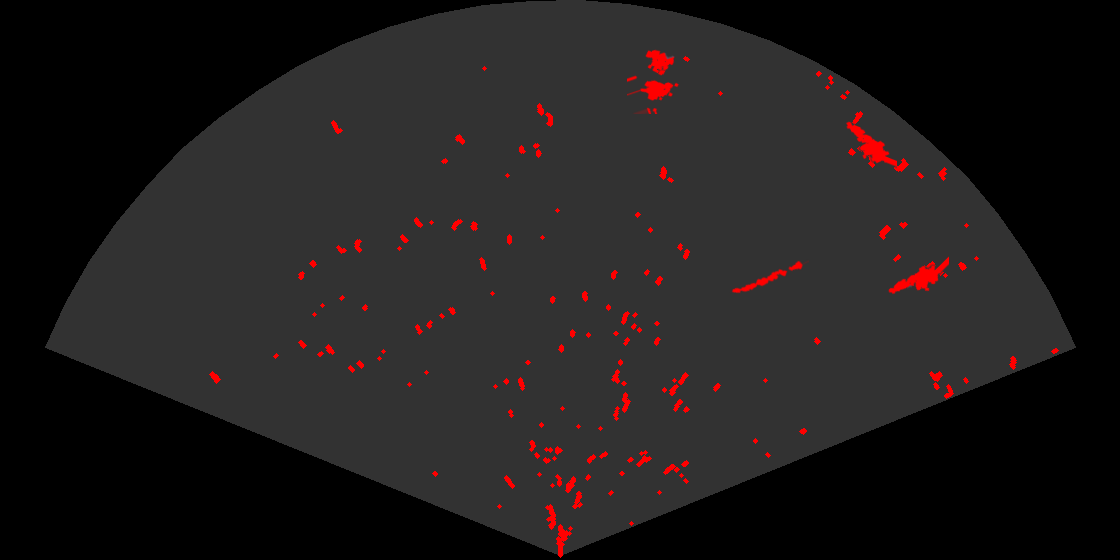cage: (627, 48, 680, 114)
chain: (729, 259, 809, 295)
frogman: (844, 120, 897, 169), (887, 255, 949, 296)
